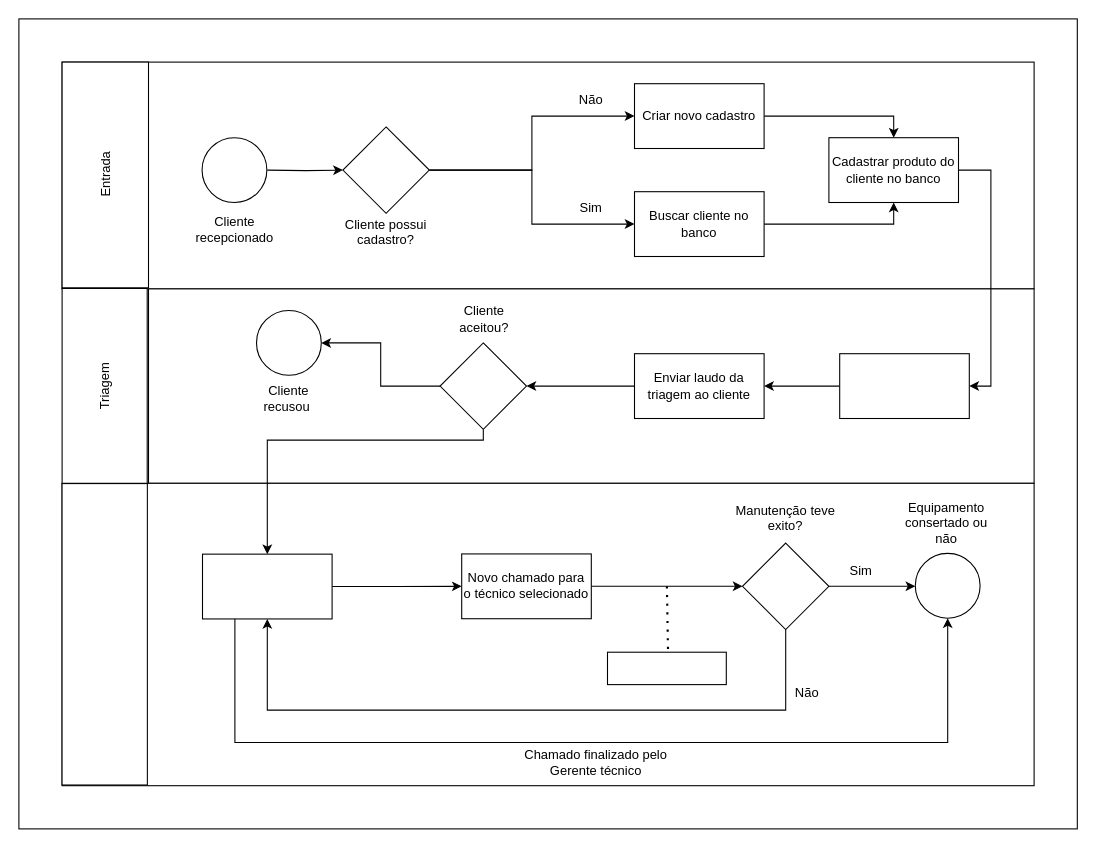
Image size: 1096x848. Some labels were removed from this diagram. The centre of each missing label's shape, as x and y in pixels:
"Gerente seleciona técnico especialista" belongs at point 266,586.
"Manutenção" belongs at point 104,634.
"Manutenção realizada" belongs at point 666,668.
"Realizar triagem" belongs at point 904,385.
